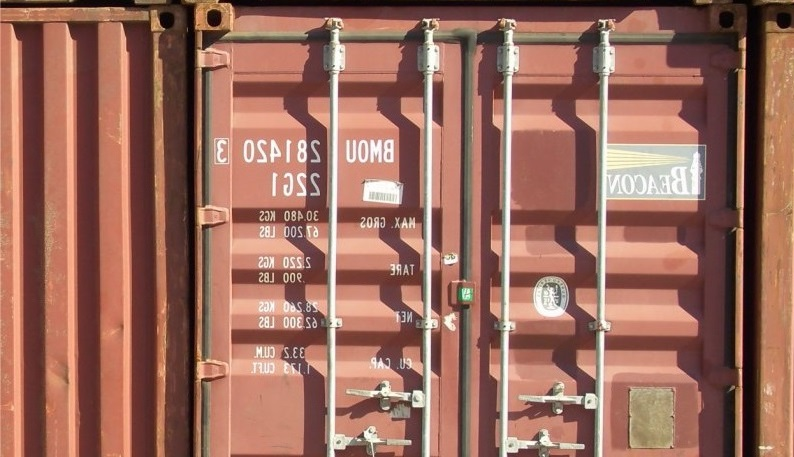container_door: (189, 4, 746, 457)
